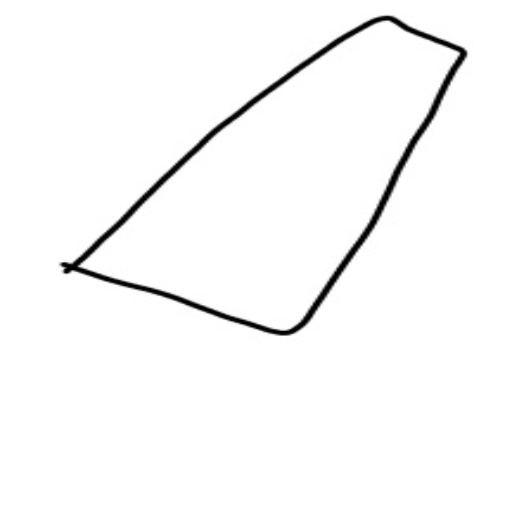rectangle: (51, 13, 484, 342)
